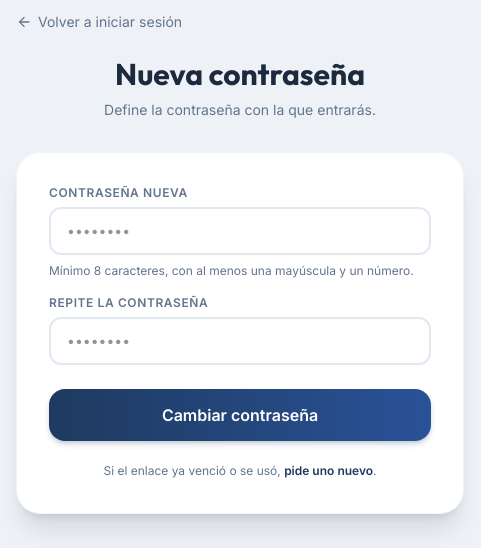
Scenario: Restablecer contraseña › manda el token del enlace junto a la contraseña nueva
Type "Docrecord2026!" into the password field labelled "Contraseña nueva" at (240, 231), box [49,207,431,255]
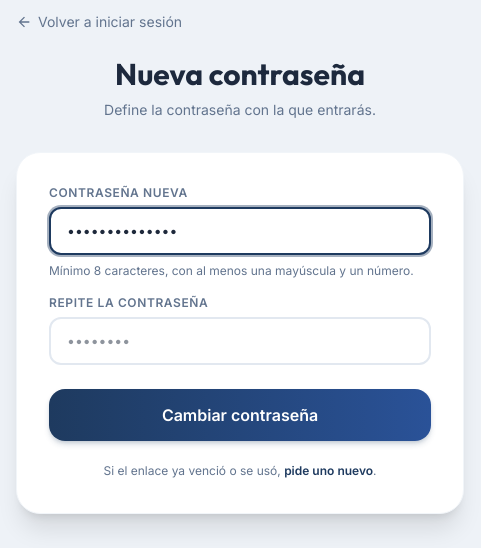
Type "Docrecord2026!" into the password field labelled "Repite la contraseña" at (240, 341), box [49,317,431,365]
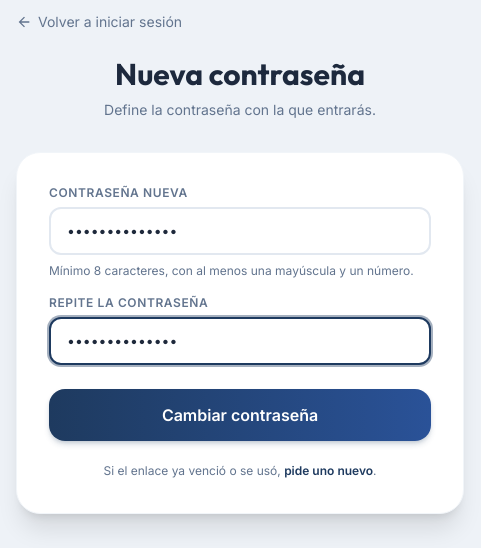
Click the button "Cambiar contraseña" at (240, 415), box [49,389,431,441]
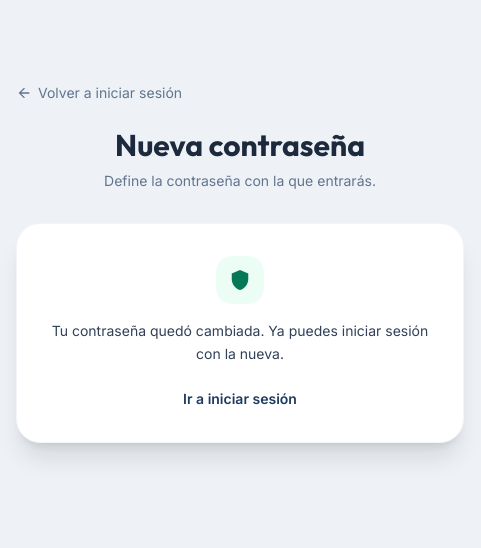
Result: the message shows "quedó cambiada" at [52,322,428,362]
